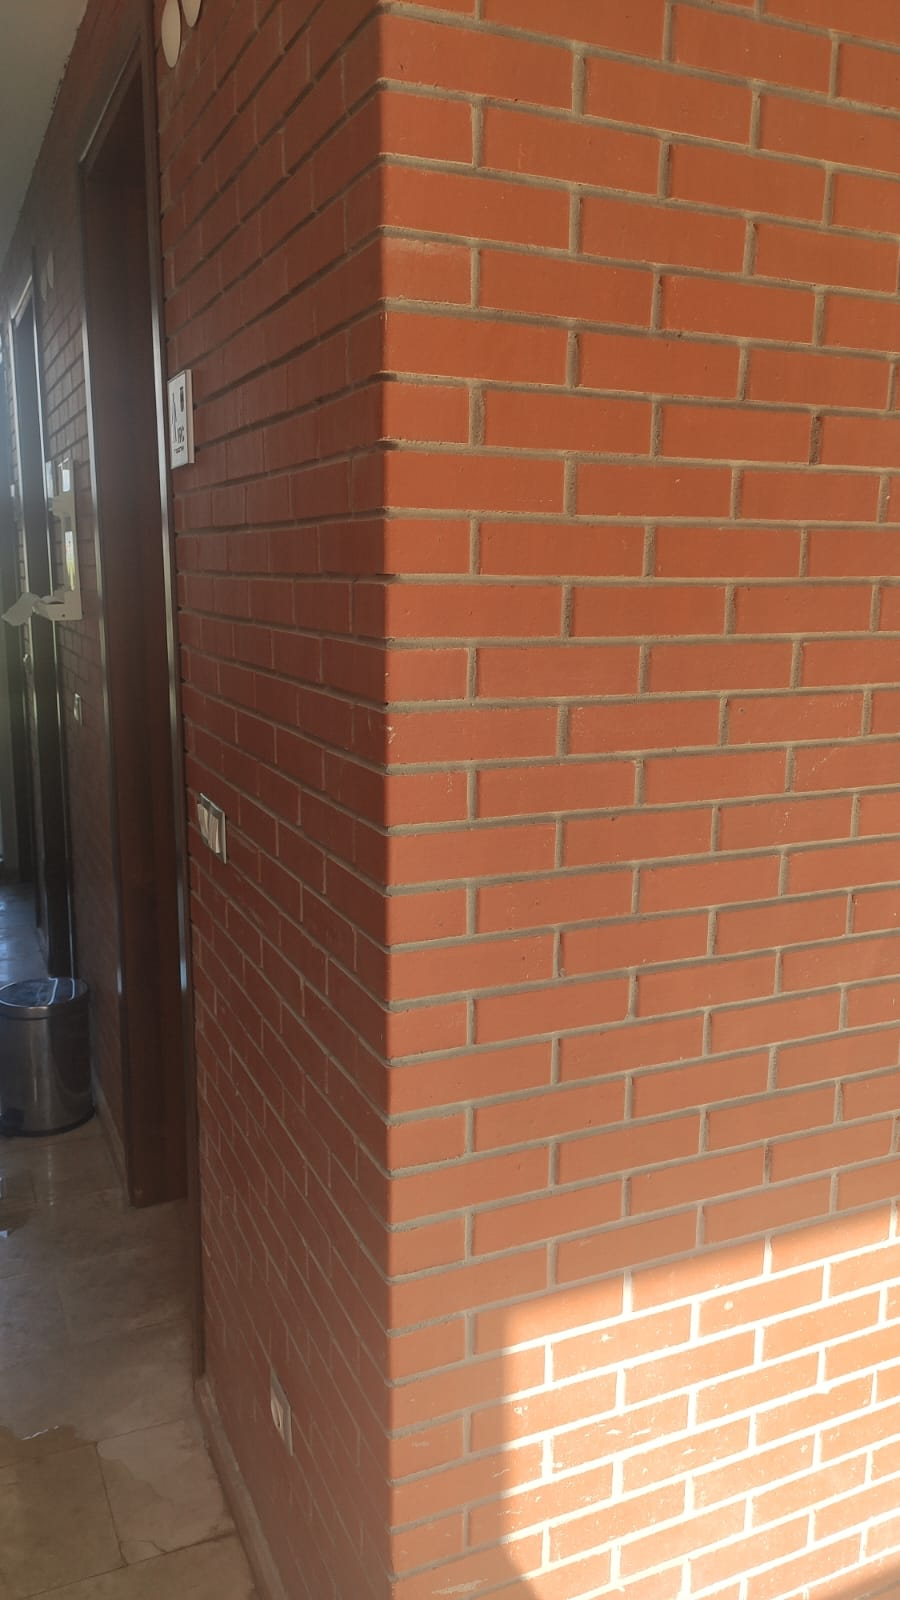redbrick: (370, 298, 568, 387), (384, 441, 580, 518), (462, 505, 649, 580), (384, 695, 566, 768), (649, 396, 820, 463), (564, 453, 731, 521), (727, 460, 887, 531), (533, 1304, 692, 1373), (566, 571, 725, 640), (573, 327, 734, 391), (653, 515, 809, 581), (562, 695, 730, 755), (544, 1119, 704, 1179), (543, 1404, 698, 1464), (696, 1262, 822, 1331), (690, 1352, 819, 1419), (643, 634, 789, 691), (745, 1374, 873, 1434), (741, 1462, 864, 1522), (391, 1213, 476, 1279)
